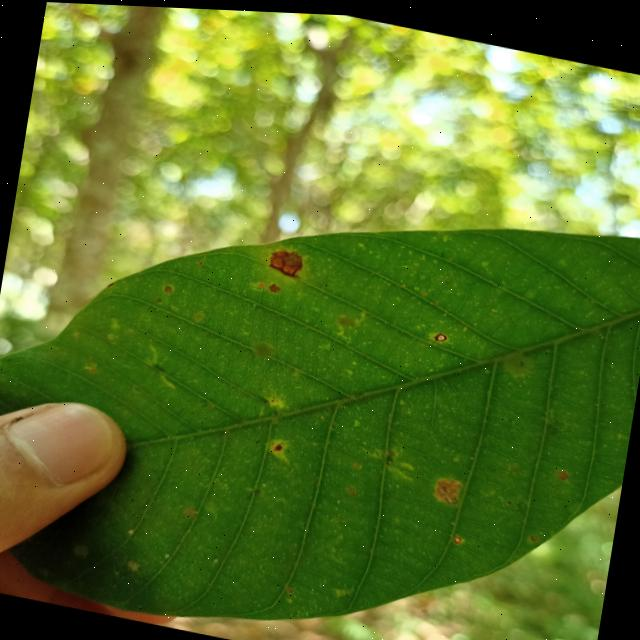Colletotrichum: (434, 329, 446, 339)
Leaf-Blight: (269, 246, 302, 275)
